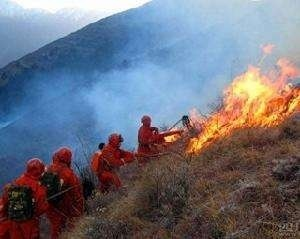fire: (162, 42, 300, 155)
